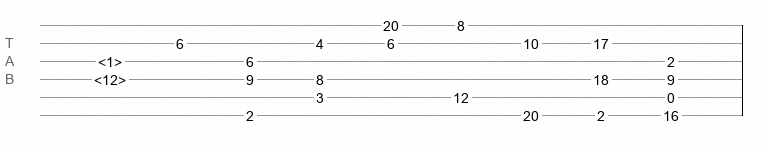0: (667, 90, 675, 100)
10: (523, 36, 539, 46)
12: (453, 90, 469, 100)
16: (663, 108, 679, 118)
17: (593, 36, 609, 46)
18: (593, 72, 609, 82)
2: (246, 108, 254, 118), (597, 108, 605, 118), (667, 54, 675, 64)
20: (383, 18, 399, 28), (523, 108, 539, 118)
3: (316, 90, 324, 100)
4: (316, 36, 324, 46)
6: (176, 36, 184, 46), (246, 54, 254, 64), (387, 36, 395, 46)
8: (316, 72, 324, 82), (457, 18, 465, 28)
9: (246, 72, 254, 82), (667, 72, 675, 82)
harmonic: (94, 72, 126, 82), (98, 54, 122, 64)
